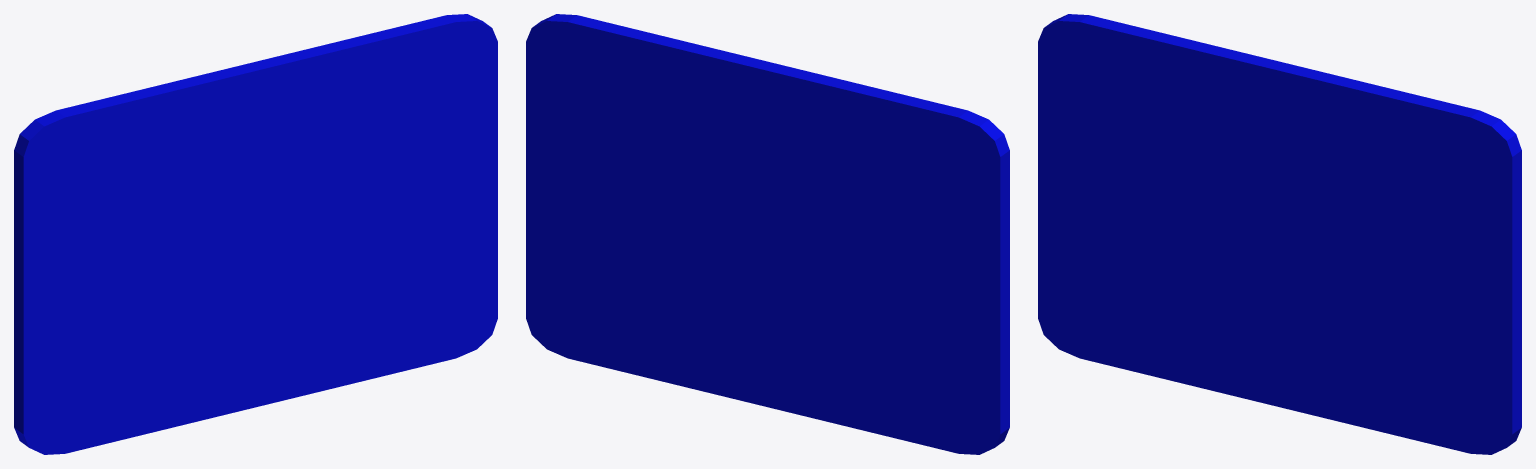
Rendered from CardBlue.fbx.
The picture shows the model from 3 angles, left to right: view 1: azimuth 30°, elevation 25°; view 2: azimuth 150°, elevation 25°; view 3: azimuth 330°, elevation 25°; orthographic projection.
Visible parts, largest first — view 1: Card1; view 2: Card1; view 3: Card1.
Boxes of the visible parts, bbox=[...] form: Card1: bbox=[14, 14, 497, 454]; Card1: bbox=[526, 14, 1009, 454]; Card1: bbox=[1038, 14, 1521, 454].
Bounding box in the file's own units: 38.35 × 25.99 × 1.33.
